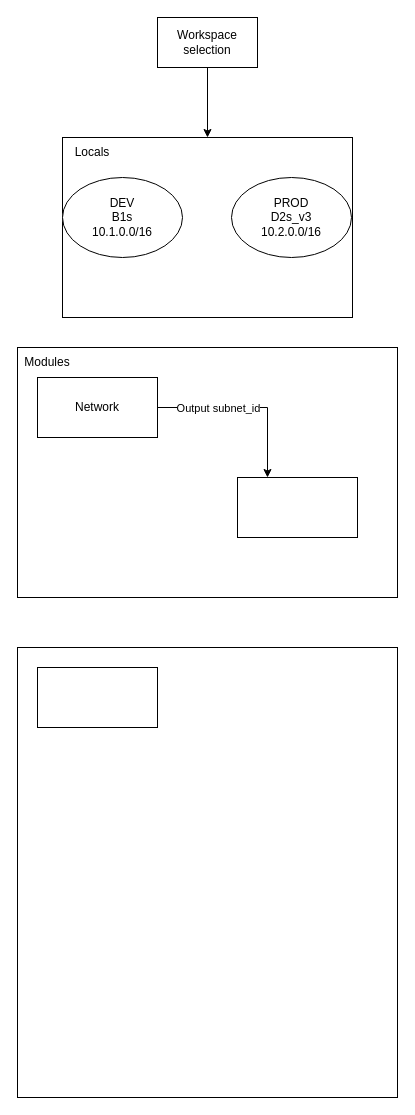
The diagram is 415 pixels wide and 1115 high, and some of its shapes have lost their labels. The centre of each missing label's shape, as x and y in pixels:
Azure subnet: the point at 97,697
Compute: the point at 297,507
